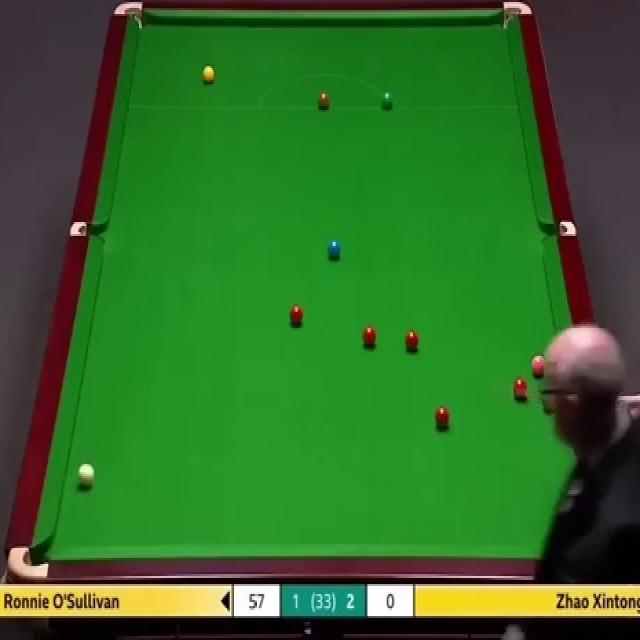blue-ball: (328, 239, 341, 261)
brown-ball: (318, 93, 330, 110)
green-ball: (382, 90, 393, 110)
pink-ball: (531, 353, 548, 378)
red-ball: (433, 405, 451, 430), (405, 327, 420, 352), (362, 325, 376, 349), (513, 378, 528, 399), (290, 302, 304, 324)
white-ball: (77, 461, 94, 489)
yellow-ball: (202, 66, 216, 86)
